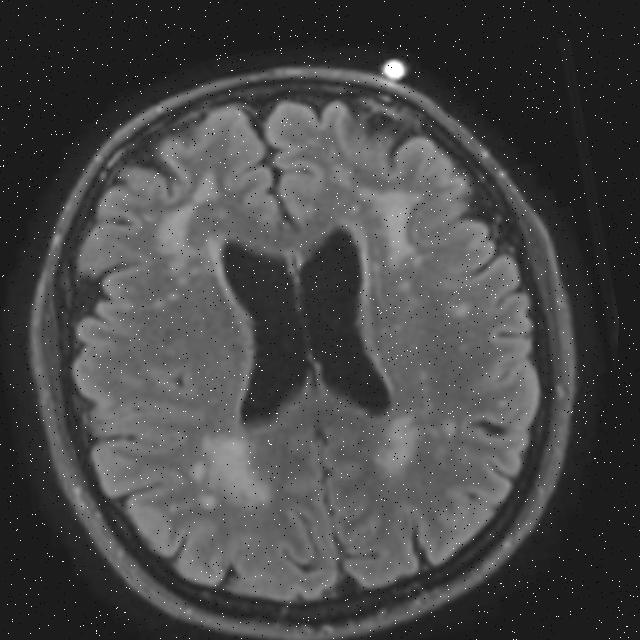NoTumor: (0, 20, 639, 640)
